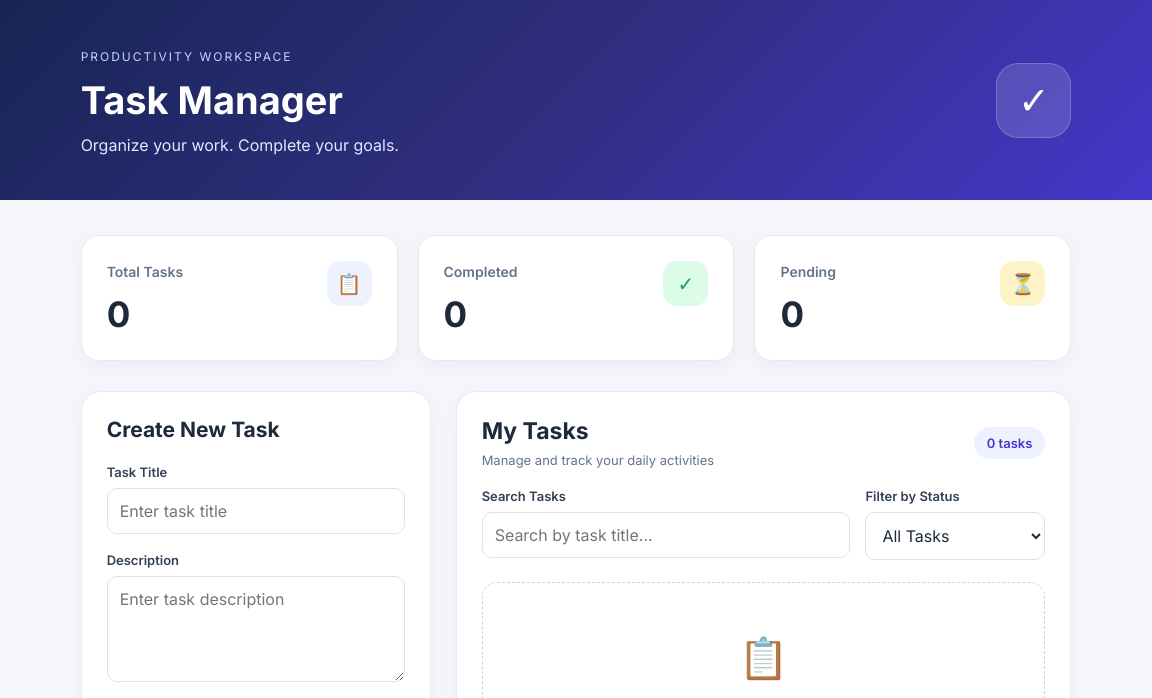
Task Manager Integration Tests › edits an existing task
Type "Original Task" into the field labelled "Task Title" at point(256, 511), box [107,488,405,534]
(page scrolled)
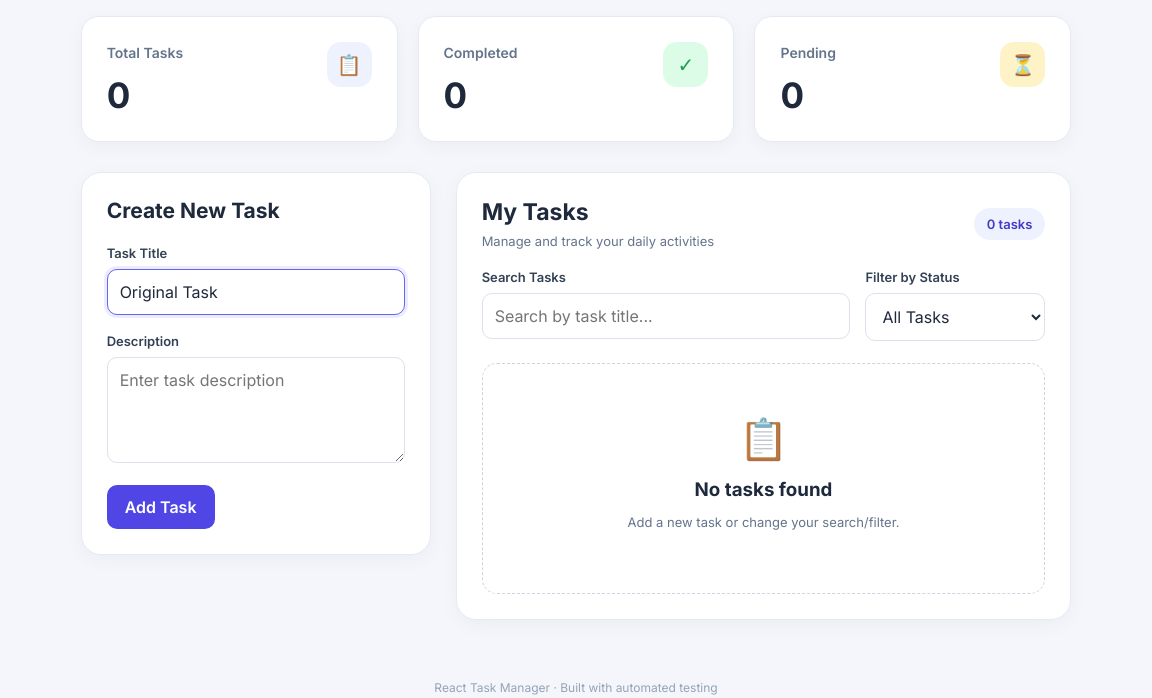
Click the button "Add Task" at point(161, 507), box [107,485,214,529]
(page scrolled)
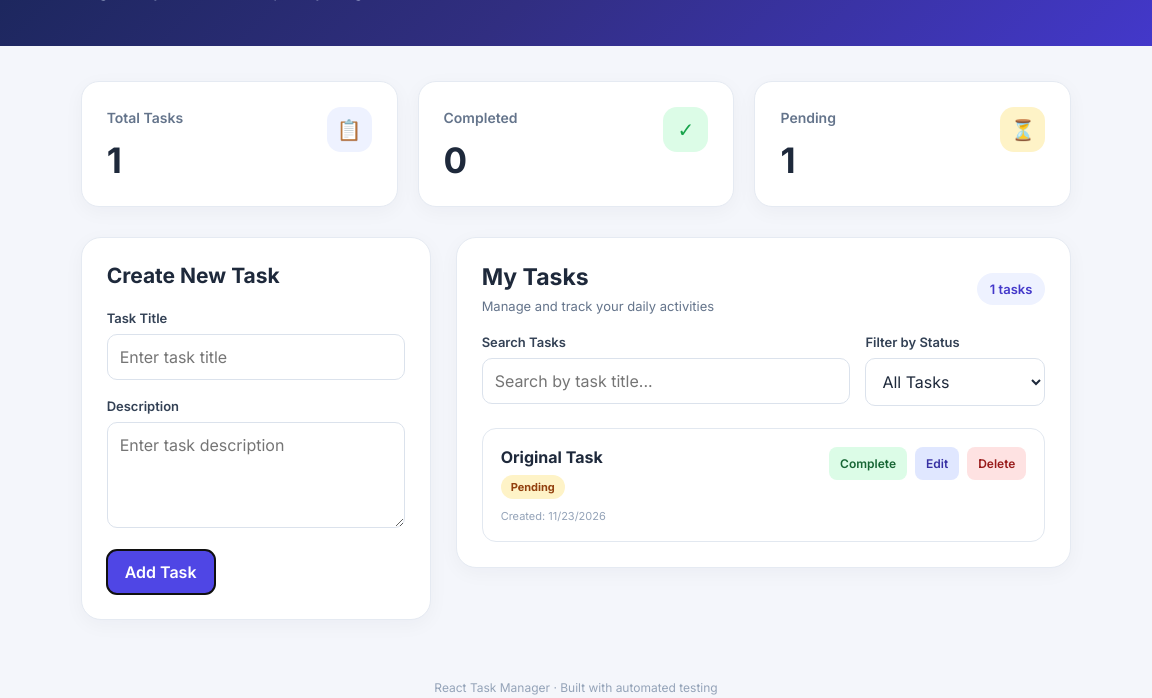
Click the button with aria-label "edit original task" at point(937, 464), box [915,447,959,480]
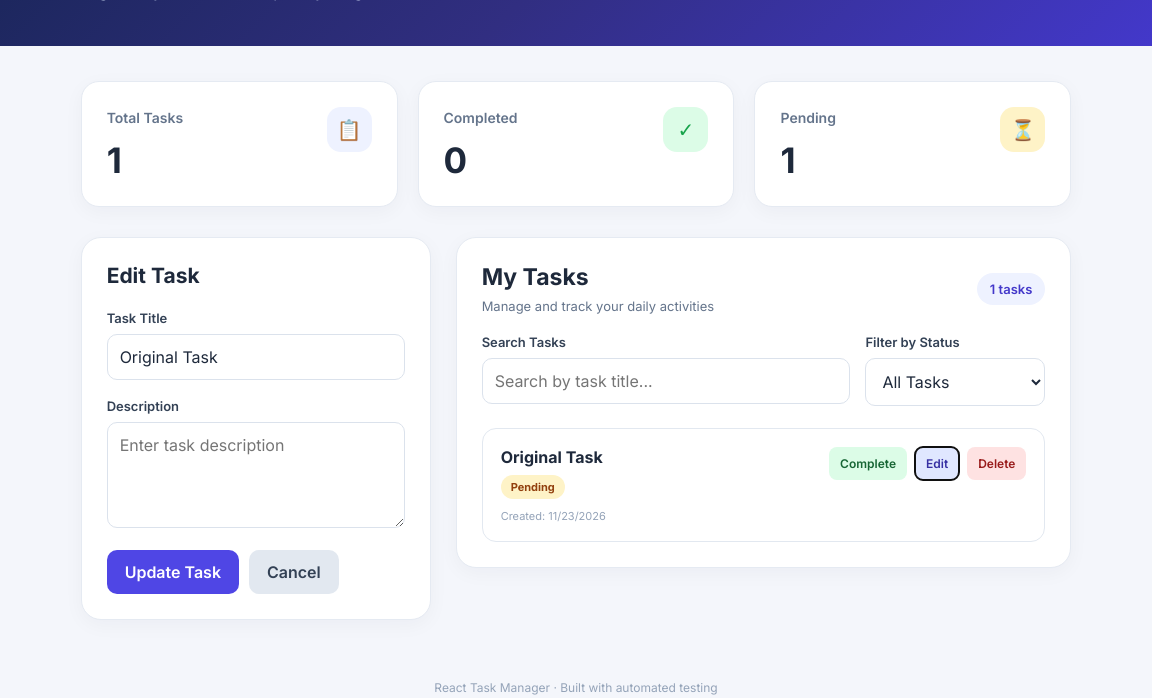
Replace the text in the field labelled "Task Title" with "Updated Task" at point(256, 357), box [107,334,405,380]
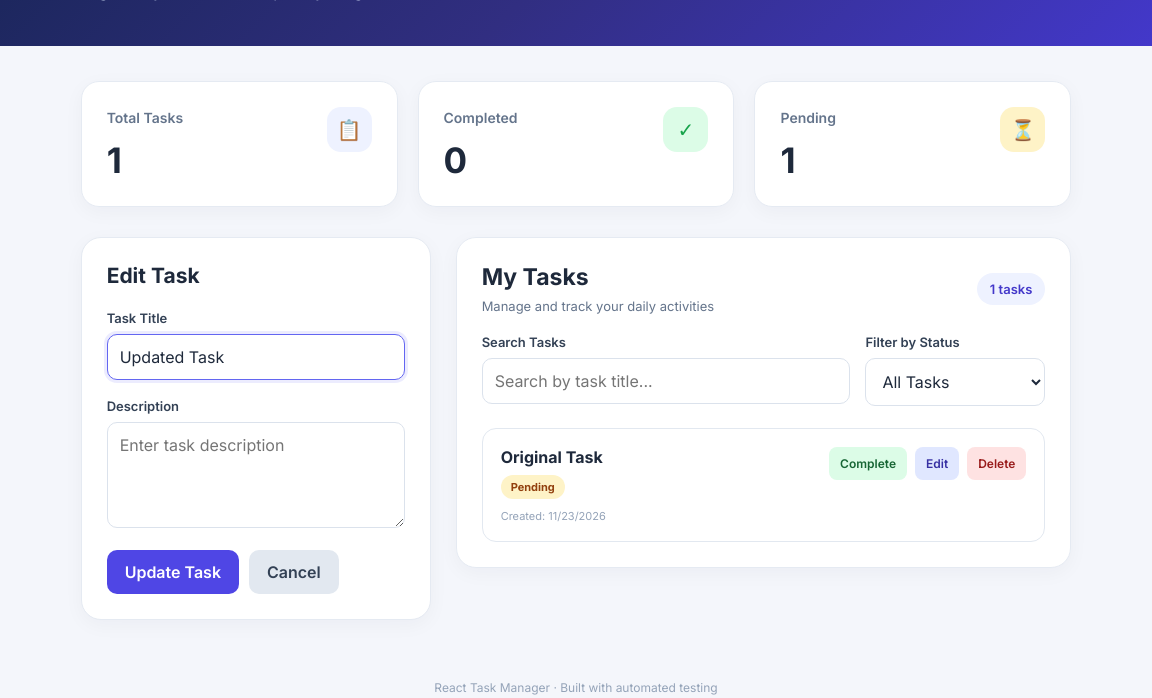
Click the button "Update Task" at point(173, 572), box [107,550,239,594]
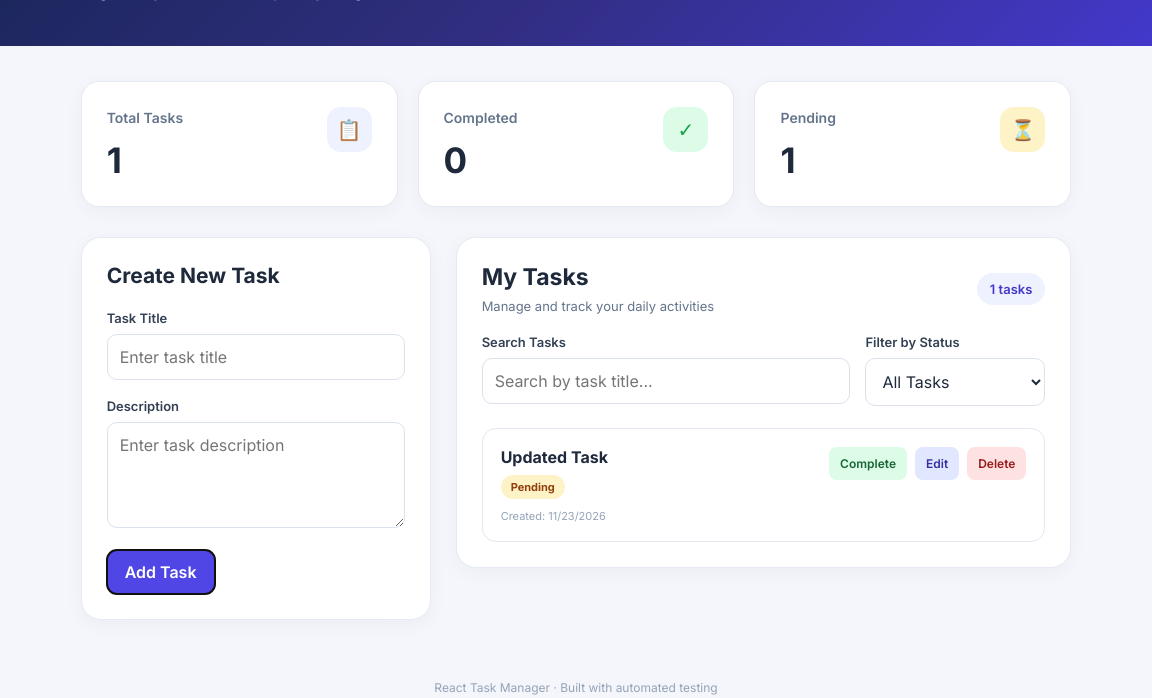
expect the heading "Updated Task" is shown: met, box [501,447,608,467]
expect the heading "Original Task" is gone: met
